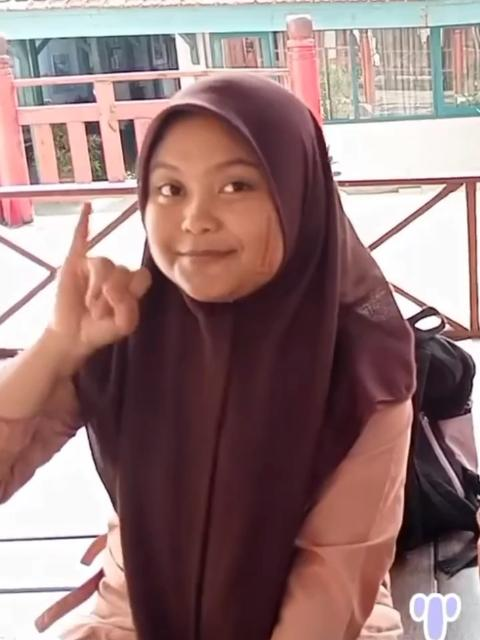I: (54, 200, 156, 352)
